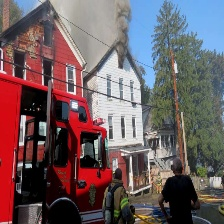smoke: (46, 1, 133, 69)
